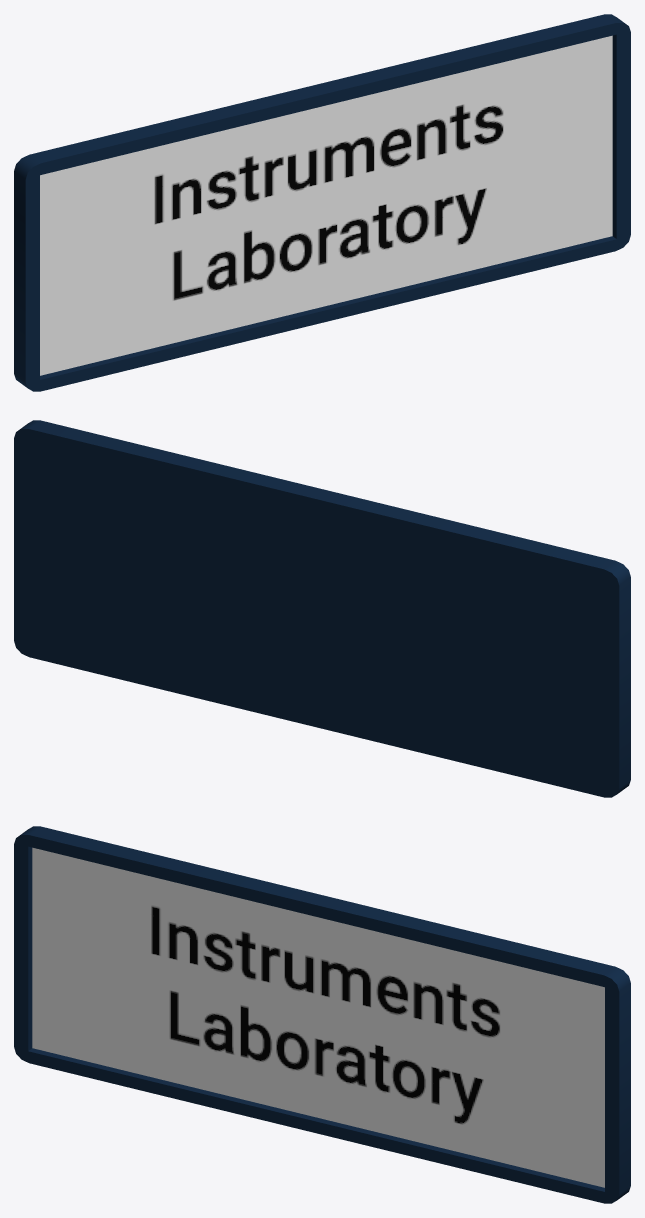
Rendered from Einstein - Instruments Laboratory.fbx.
3 renders of one model, top to bottom at view 1: azimuth 30°, elevation 25°; view 2: azimuth 150°, elevation 25°; view 3: azimuth 330°, elevation 25°, orthographic.
Parts seen in each view (by area): view 1: CLIMSO; view 2: CLIMSO; view 3: CLIMSO.
Part boxes in pixels (x1=…): CLIMSO: x1=14, y1=14, x2=630, y2=391; CLIMSO: x1=14, y1=420, x2=630, y2=797; CLIMSO: x1=14, y1=826, x2=630, y2=1203.
Bounding box in the file's own units: 415 × 149 × 13.93.
